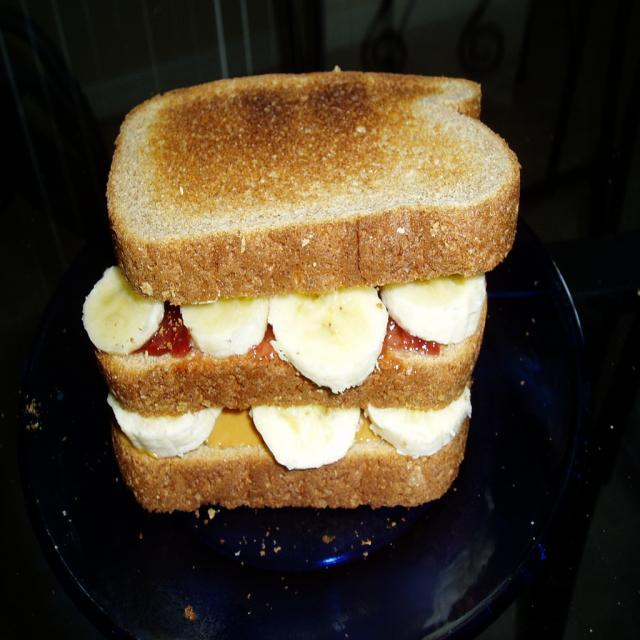Bread: (96, 67, 517, 343), (96, 284, 486, 420), (118, 408, 474, 510)
